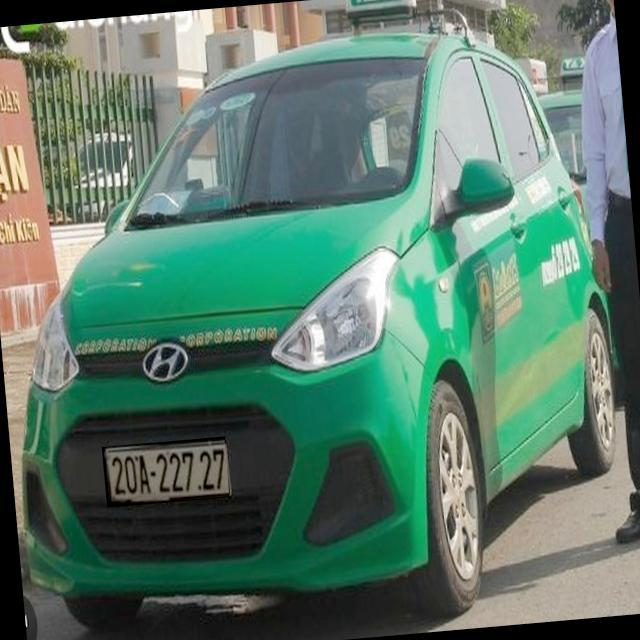car: (20, 31, 589, 628)
plate: (97, 438, 238, 506)
